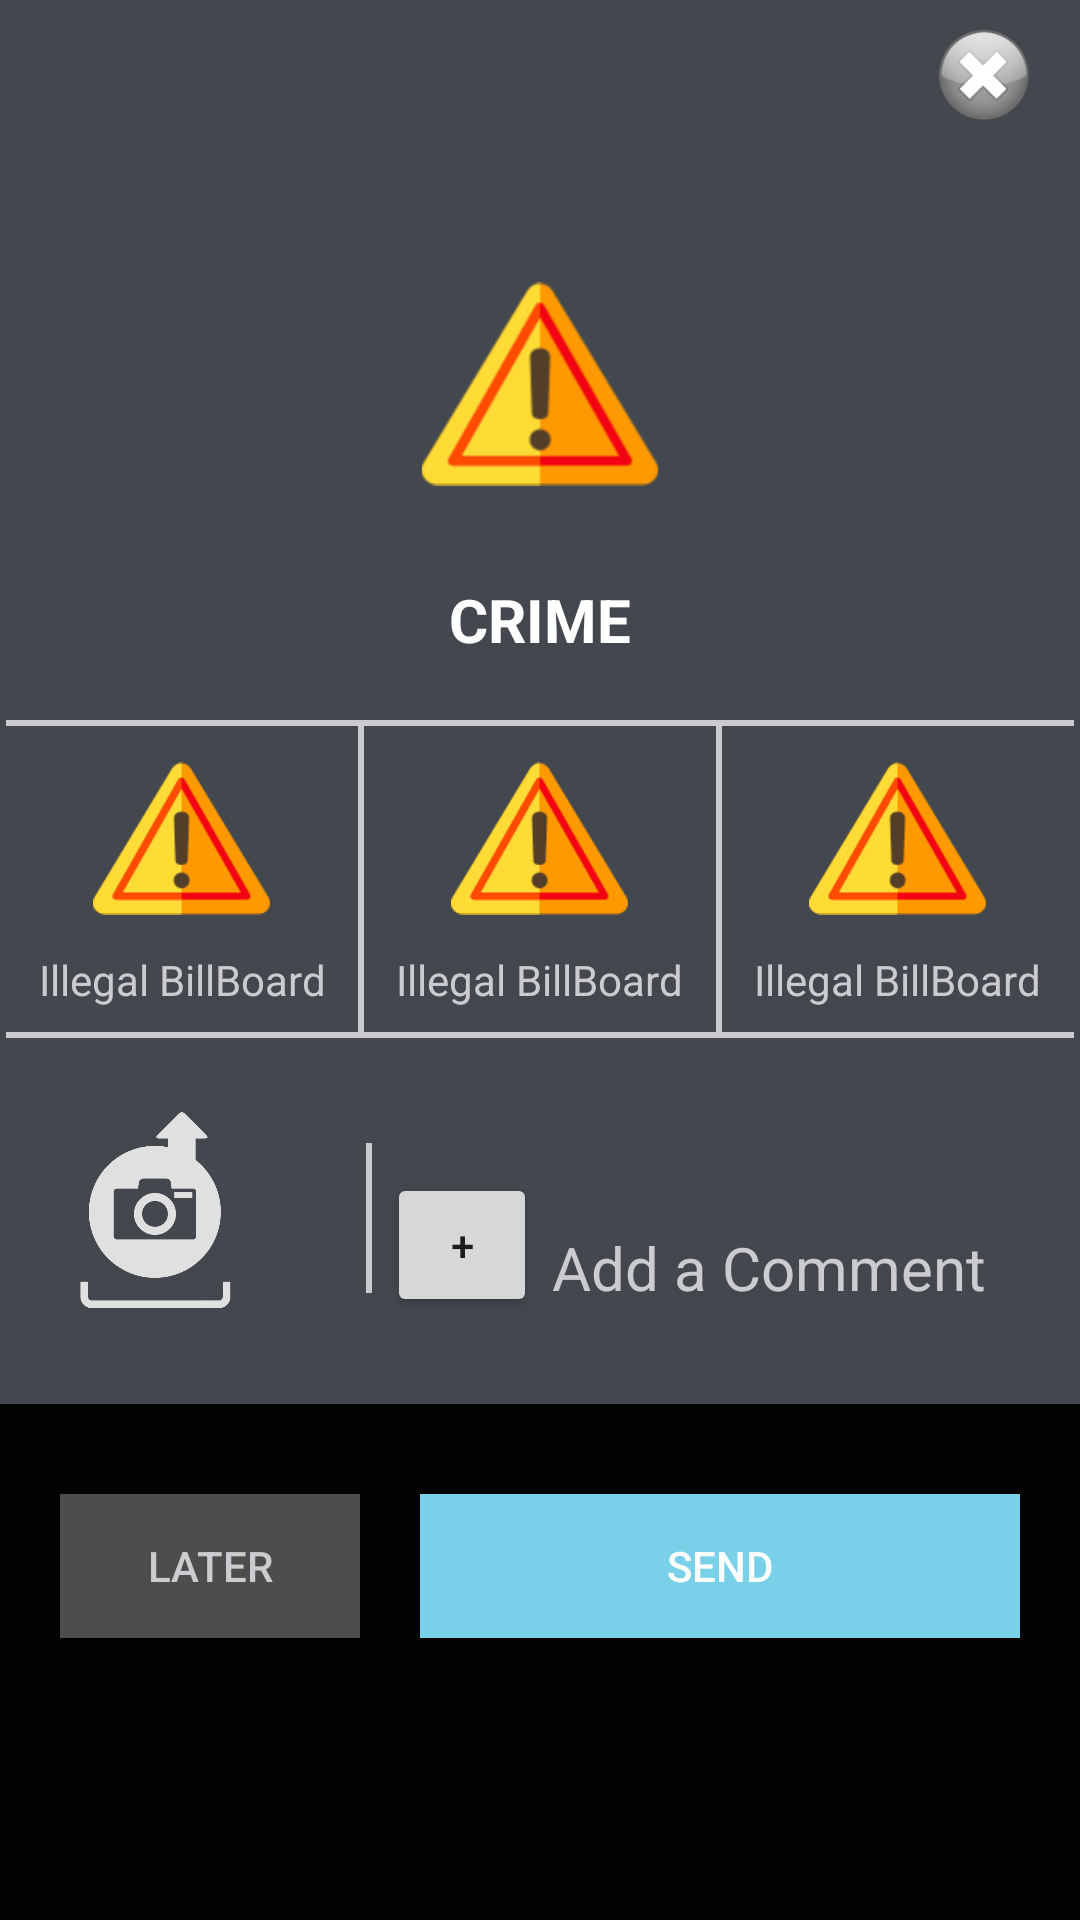

Named icons in this screenshot (1080w x 1920h) and their centers, (x,y):
hazard: (540,384), (181,838), (539,838), (897,838)
iconclosex: (983,74)
photo: (155,1210)
